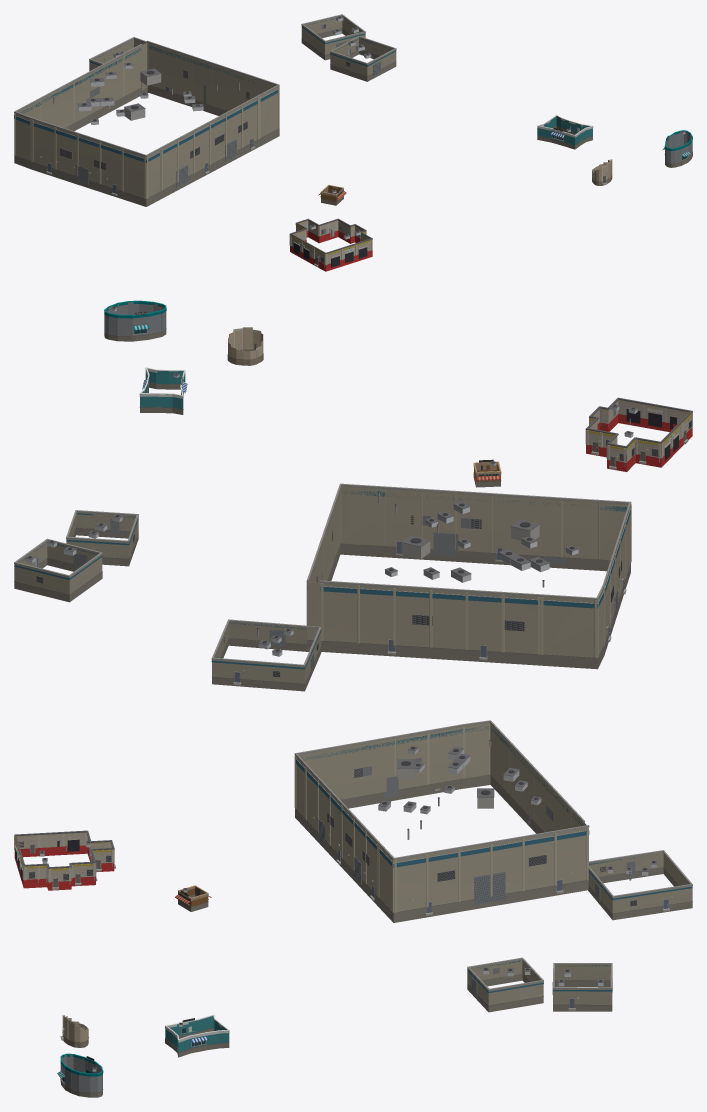
Rendered from expo-fillers.glb.
3 renders of one model, top to bottom at view 1: azimuth 30°, elevation 25°; view 2: azimuth 150°, elevation 25°; view 3: azimuth 270°, elevation 25°, orthographic. The views are drawn at different scales.
Parts seen in each view (by area): view 1: expo-fillers-paint, expo-fillers-concrete, expo-fillers-metal; view 2: expo-fillers-paint, expo-fillers-concrete, expo-fillers-metal; view 3: expo-fillers-paint, expo-fillers-concrete, expo-fillers-metal.
Part boxes in pixels (<box>): expo-fillers-paint: <box>14,16,692,267</box>; expo-fillers-concrete: <box>14,14,692,271</box>; expo-fillers-metal: <box>40,16,685,267</box>; expo-fillers-paint: <box>14,301,692,684</box>; expo-fillers-concrete: <box>14,300,692,691</box>; expo-fillers-metal: <box>25,307,692,671</box>; expo-fillers-paint: <box>14,723,692,1093</box>; expo-fillers-concrete: <box>14,720,692,1097</box>; expo-fillers-metal: <box>27,740,682,1071</box>.
Bounding box in the file's own units: 159 × 17.76 × 145.
